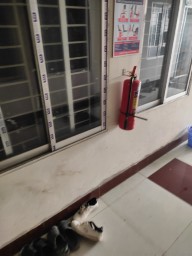fire_extinguisher: (49, 59, 98, 98)
